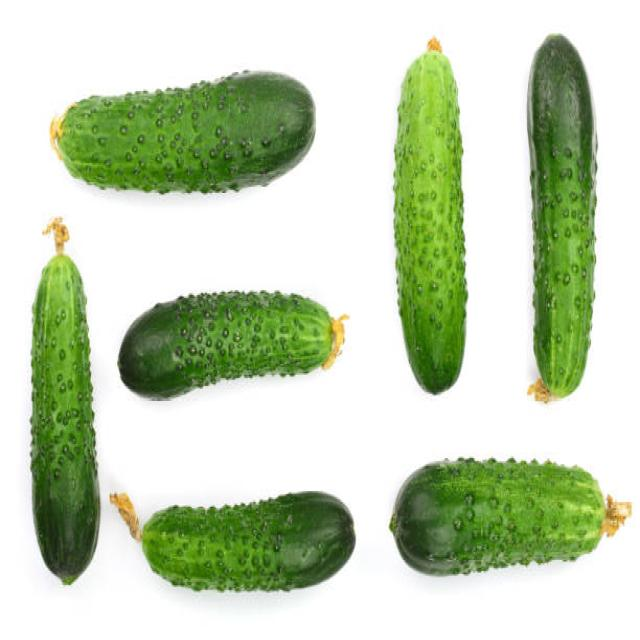cucumber: (57, 71, 316, 199), (387, 456, 606, 576), (526, 31, 597, 396), (394, 51, 468, 399), (117, 286, 332, 402), (29, 255, 102, 585), (142, 489, 354, 597)
